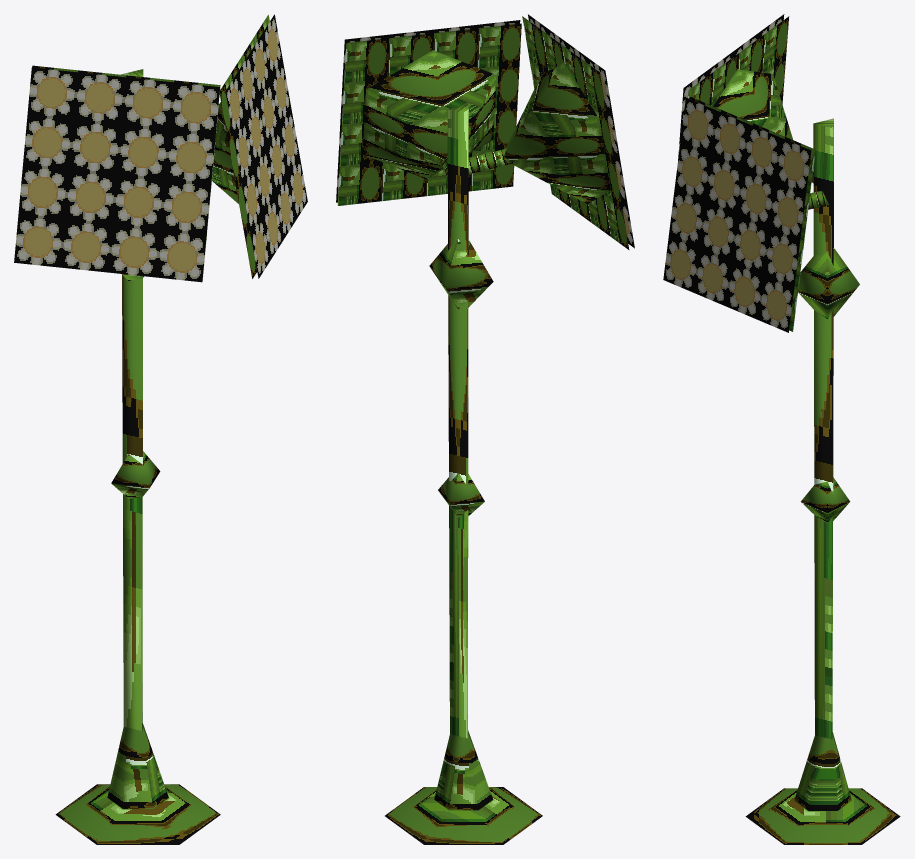
The model's file is 3198IMFY07_10.gltf.
3 renders of one model, left to right at view 1: azimuth 30°, elevation 25°; view 2: azimuth 150°, elevation 25°; view 3: azimuth 270°, elevation 25°, orthographic. The views are drawn at different scales.
Visible parts, largest first — view 1: 3198IMFY07_10; view 2: 3198IMFY07_10; view 3: 3198IMFY07_10.
Part boxes in pixels (x1=…): 3198IMFY07_10: x1=14, y1=14, x2=307, y2=844; 3198IMFY07_10: x1=336, y1=14, x2=634, y2=844; 3198IMFY07_10: x1=663, y1=14, x2=900, y2=844.
Size of the model in its own units: 0.8042 by 2.01 by 0.5818.
Materials: 3 (3 with a texture image).
